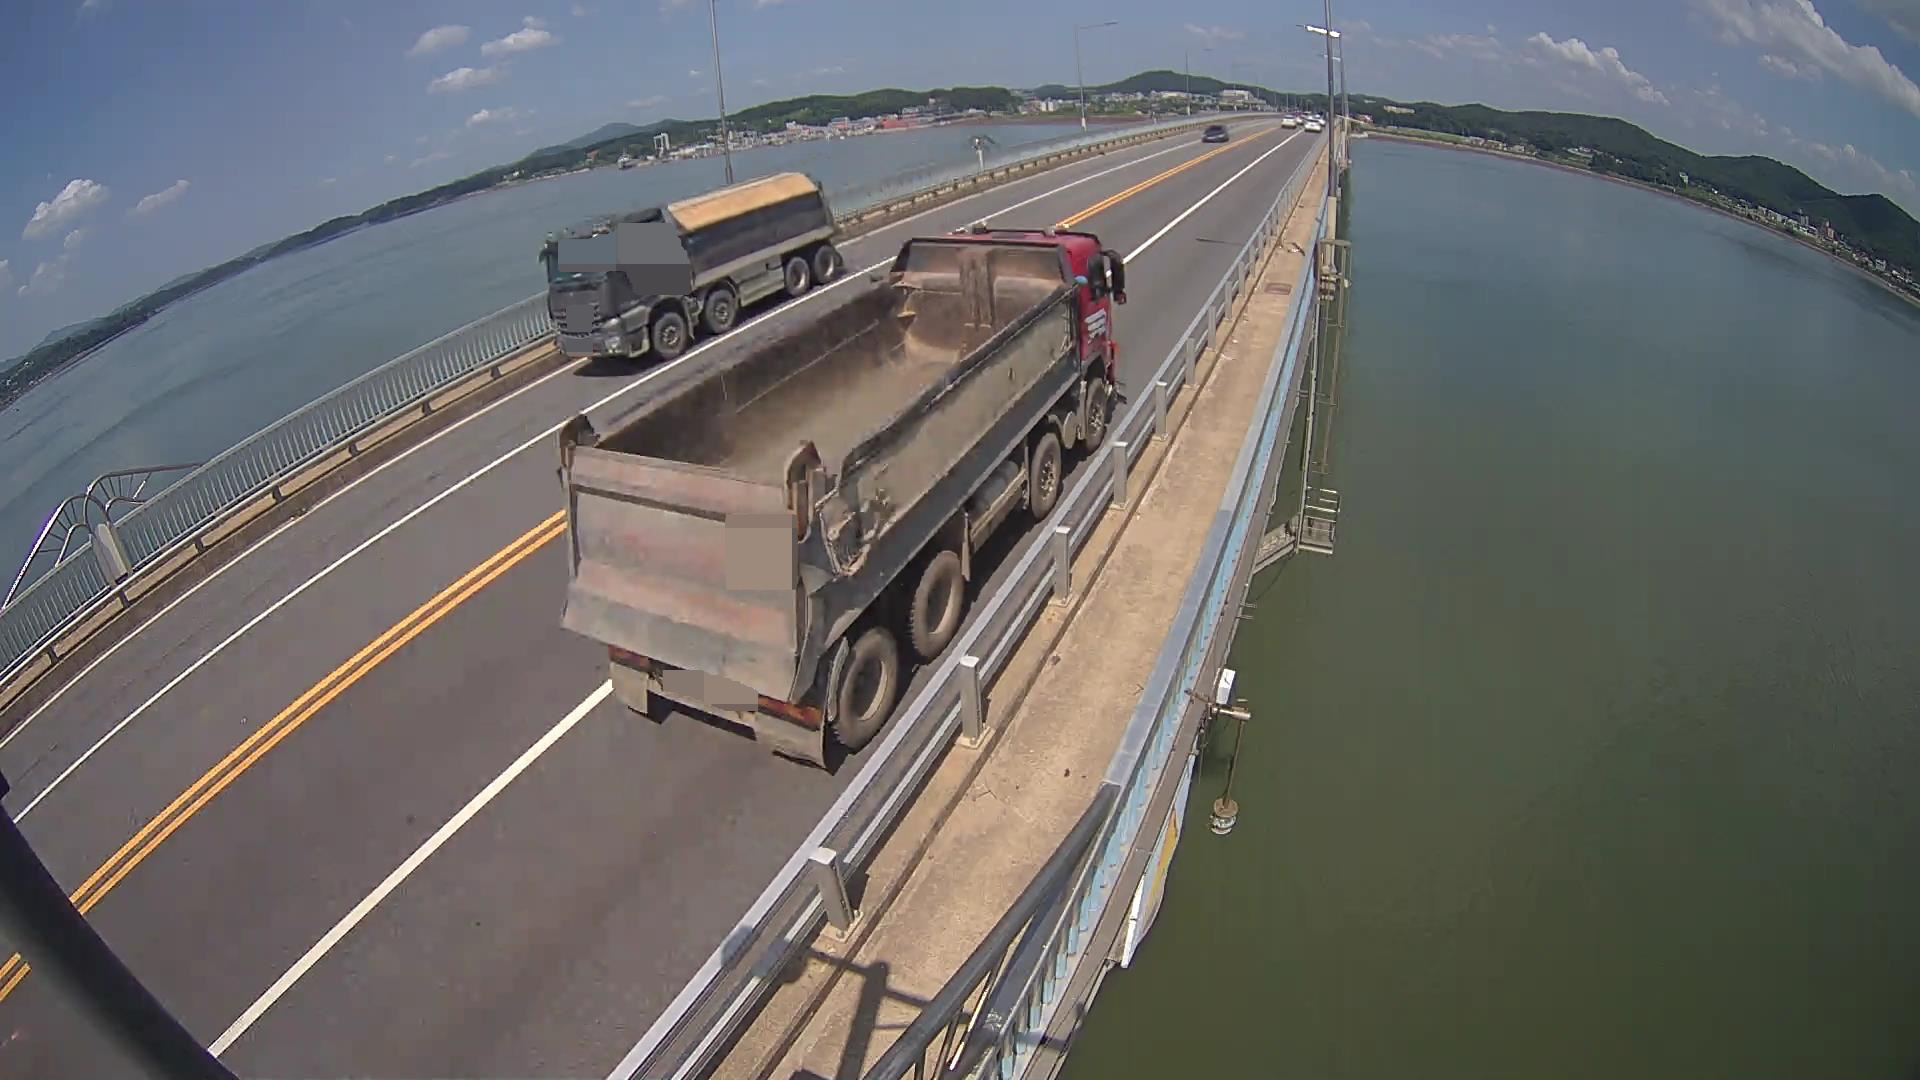정상차량: (557, 221, 1127, 771)
